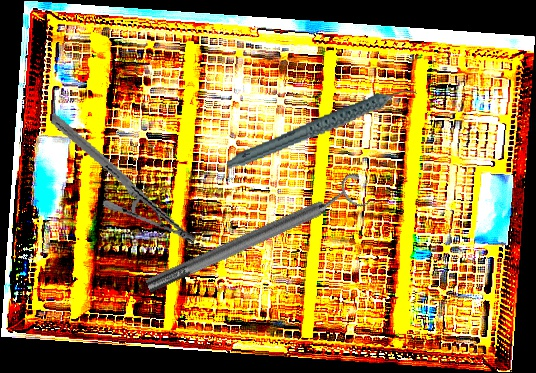Fixation Ring: (139, 170, 372, 303)
Handpiece: (219, 86, 425, 172)
Needle Holder: (32, 112, 215, 247)
